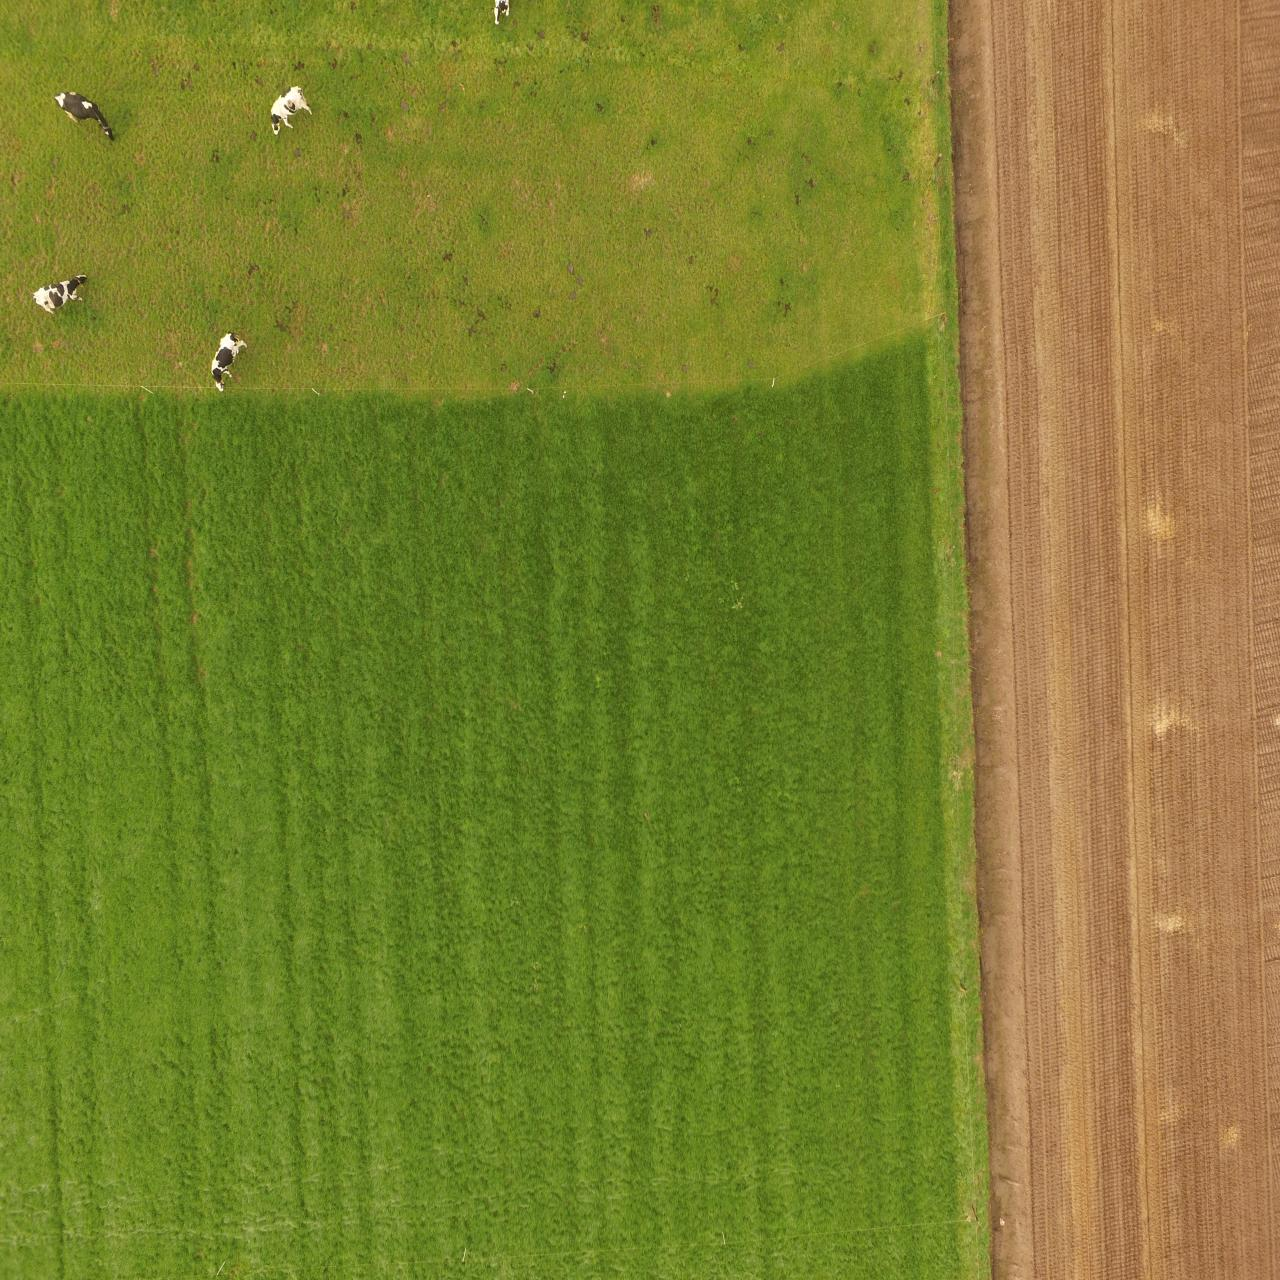cow: (50, 83, 115, 143), (30, 270, 89, 318), (209, 327, 248, 395), (266, 81, 314, 137)
